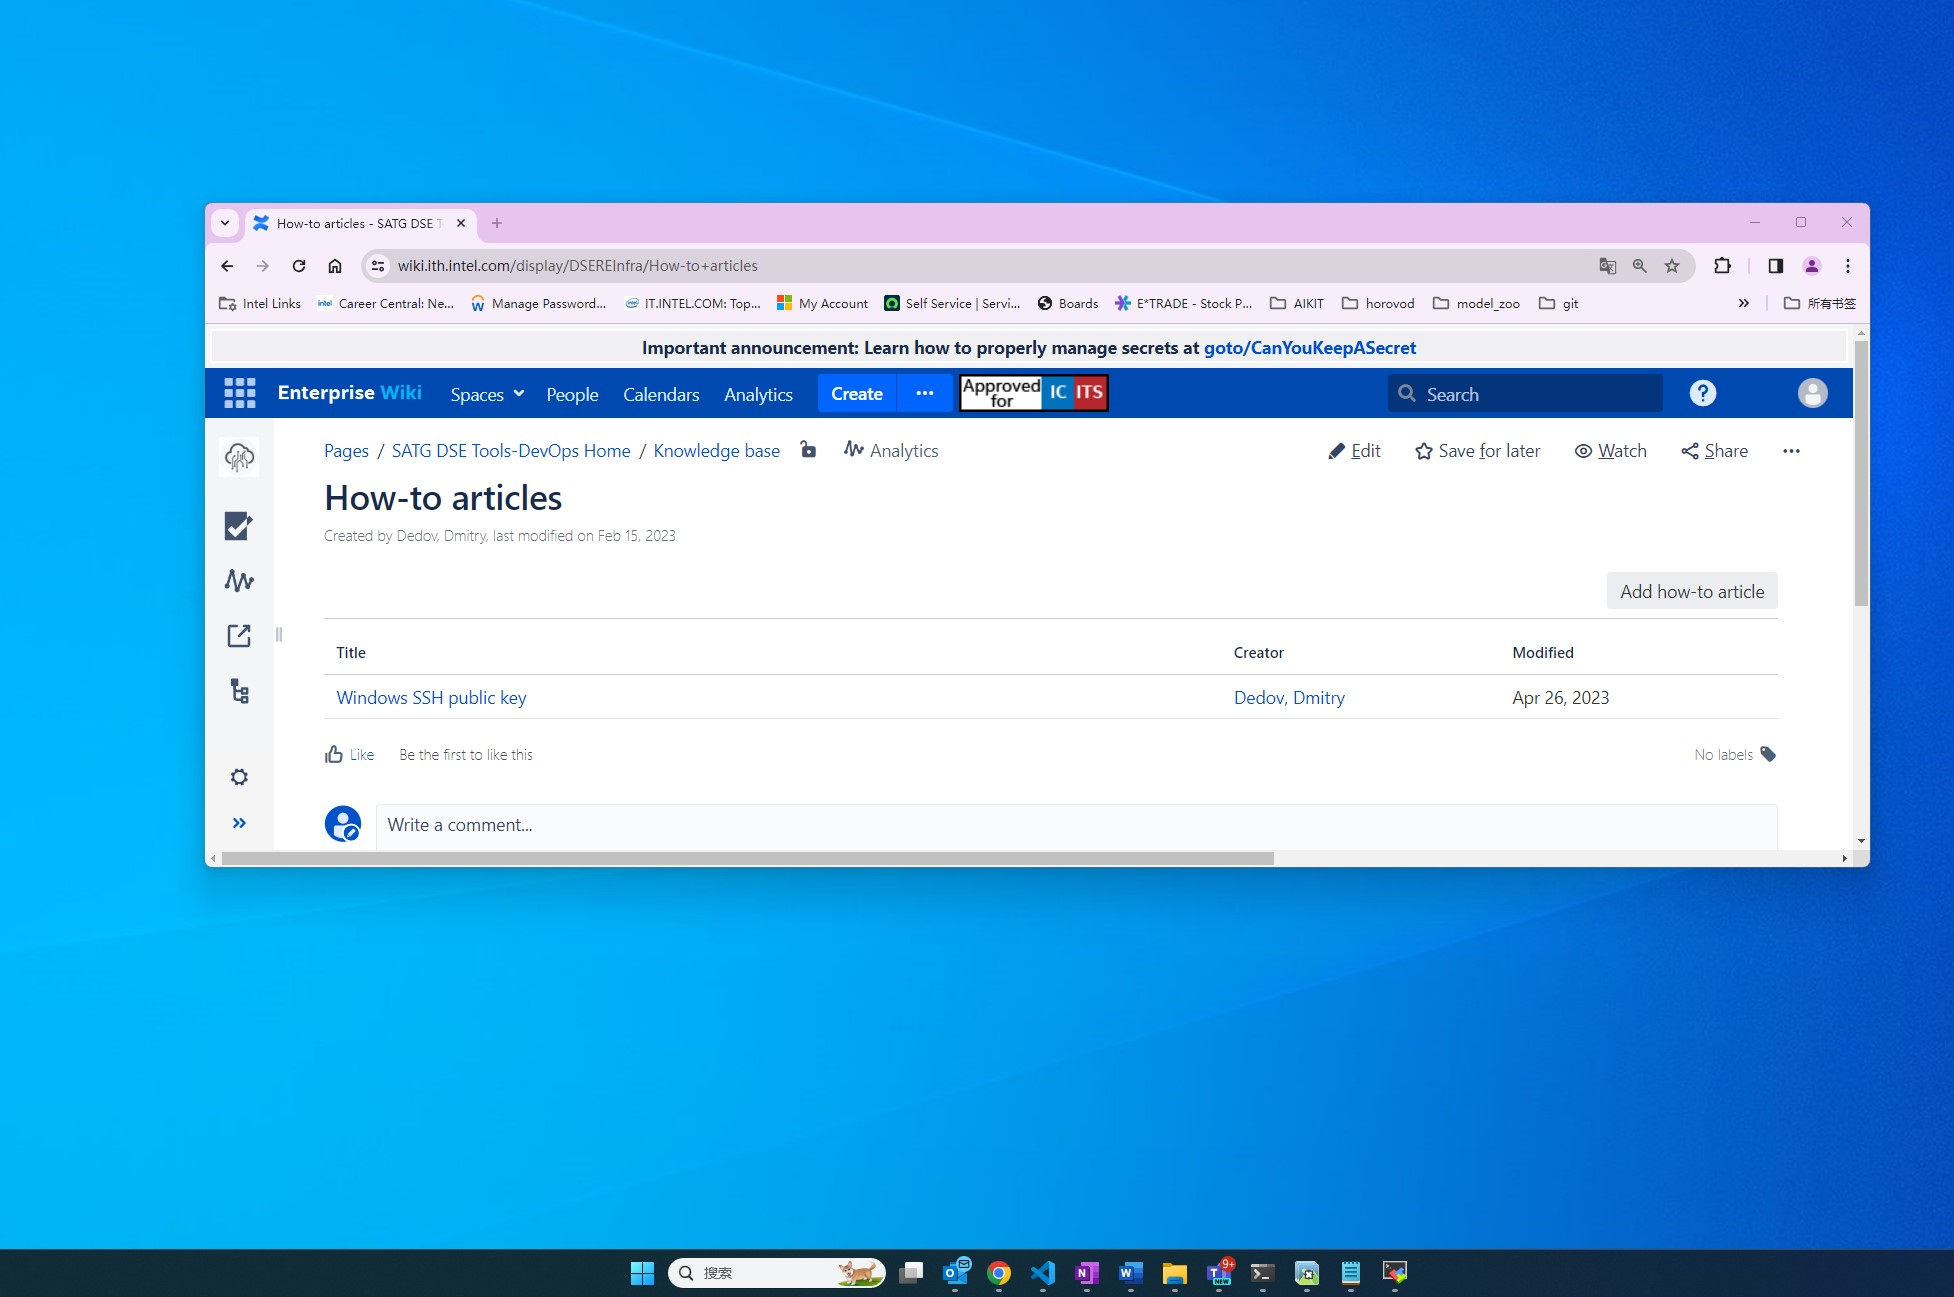button_create: (818, 372, 897, 417)
search_box: (1390, 372, 1667, 420), (667, 1255, 889, 1288)
start_bar: (630, 1259, 656, 1290)
